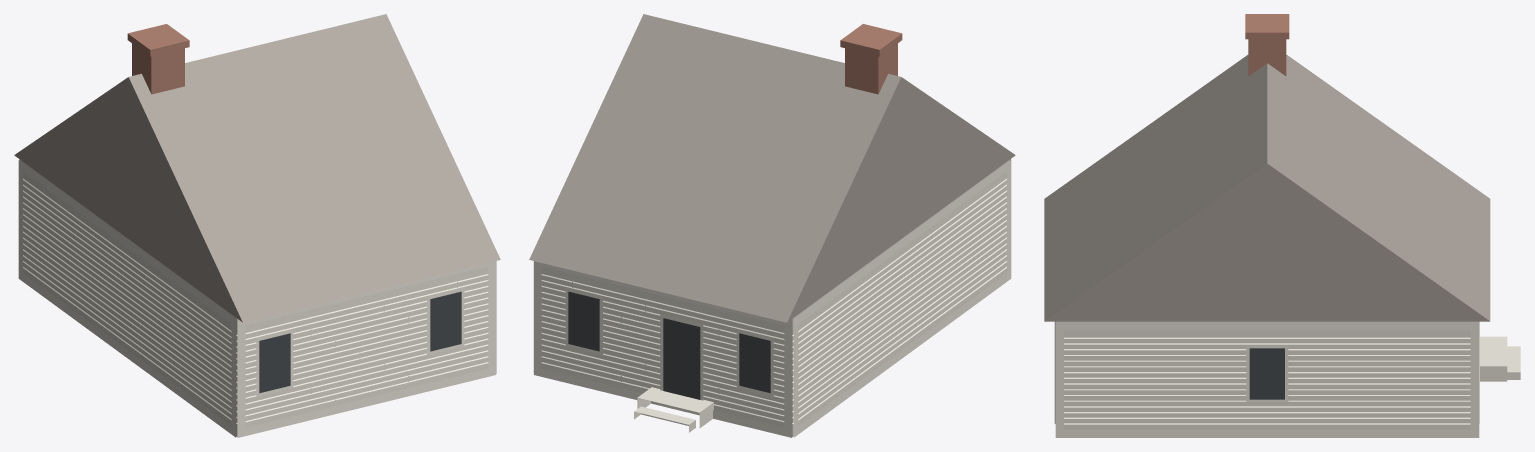
File: recon_1835_blk_lake_clark_d5_03__inferred_1835.glb
3 views of the same model, side by side, from view 1: azimuth 30°, elevation 25°; view 2: azimuth 150°, elevation 25°; view 3: azimuth 270°, elevation 25° (orthographic). The views are drawn at different scales.
Parts seen in each view (by area): view 1: recon_1835_blk_lake_clark_d5_03__inferred_1835; view 2: recon_1835_blk_lake_clark_d5_03__inferred_1835; view 3: recon_1835_blk_lake_clark_d5_03__inferred_1835.
Part boxes in pixels (left/top/right/bottom): recon_1835_blk_lake_clark_d5_03__inferred_1835: left=14, top=14, right=500, bottom=437; recon_1835_blk_lake_clark_d5_03__inferred_1835: left=529, top=14, right=1015, bottom=437; recon_1835_blk_lake_clark_d5_03__inferred_1835: left=1044, top=14, right=1520, bottom=437.
Bounding box in the file's own units: 6.52 × 7.48 × 10.57.
